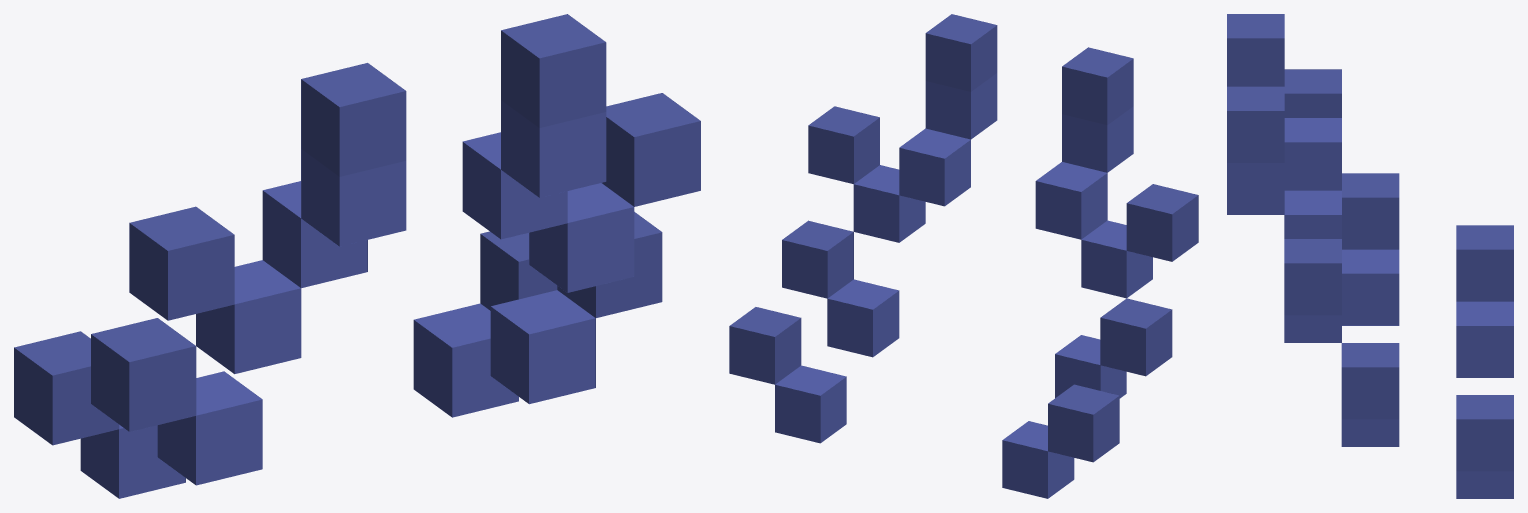
The model's file is Shaman Back-transparent.obj.
3 renders of one model, left to right at view 1: azimuth 30°, elevation 25°; view 2: azimuth 150°, elevation 25°; view 3: azimuth 270°, elevation 25°, orthographic. The views are drawn at different scales.
Visible parts, largest first — view 1: Shaman Back-transparent; view 2: Shaman Back-transparent; view 3: Shaman Back-transparent.
Boxes of the visible parts, x1,y1,x2,y2 form: Shaman Back-transparent: (14,14,700,498); Shaman Back-transparent: (729,14,1198,498); Shaman Back-transparent: (1227,14,1513,498).
Bounding box in the file's own units: 8 × 7 × 5.
Materials: 1 (1 with a texture image).
